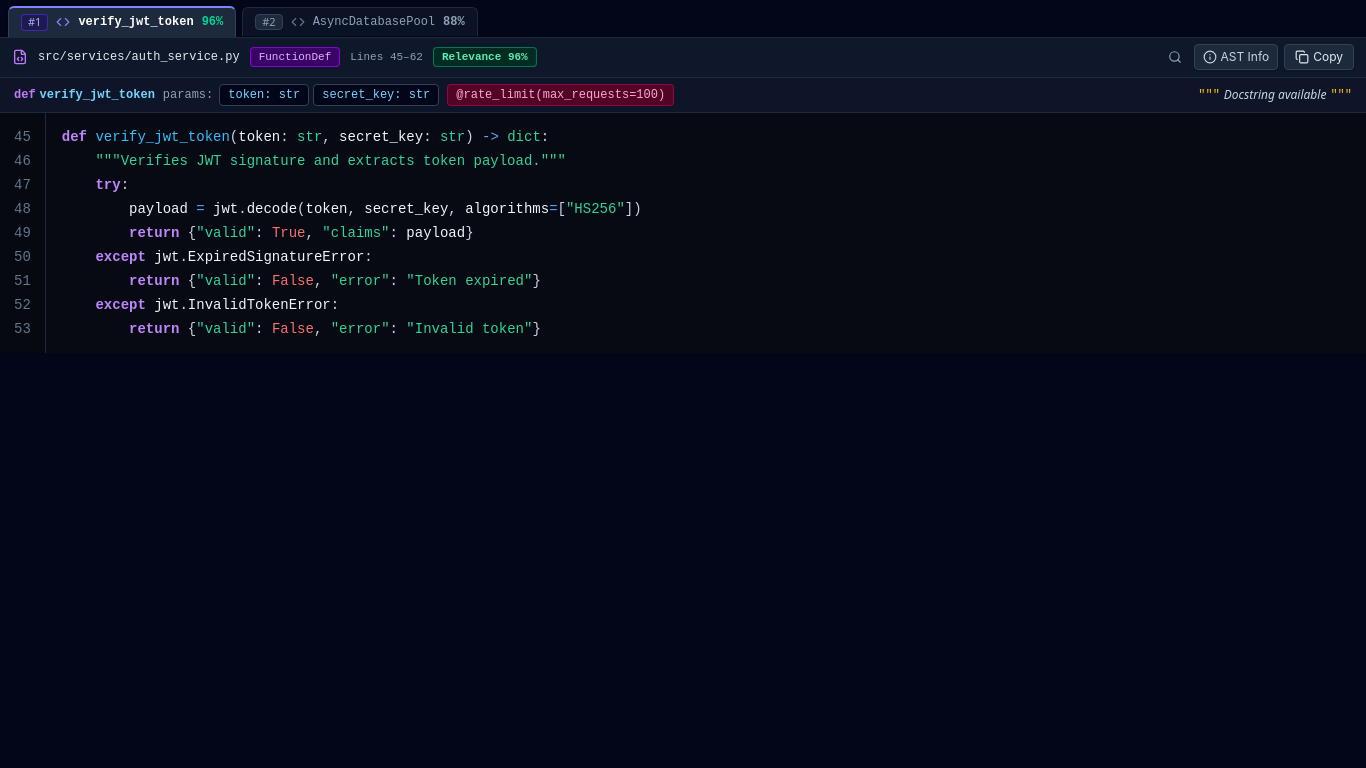
Test: Adversarial Challenge 2: Python Highlighting, Line Numbers & DOM Accessibility › 4. Tab Switching & AST State Consistency › synchronizes AST Metadata Inspector with the selected tab when opened
The width and height of the screenshot is (1366, 768).
# Open AST metadata inspector
Click the button with test id "toggle-ast-inspector-btn".
click(1236, 57)  # box [1194,44,1278,70]
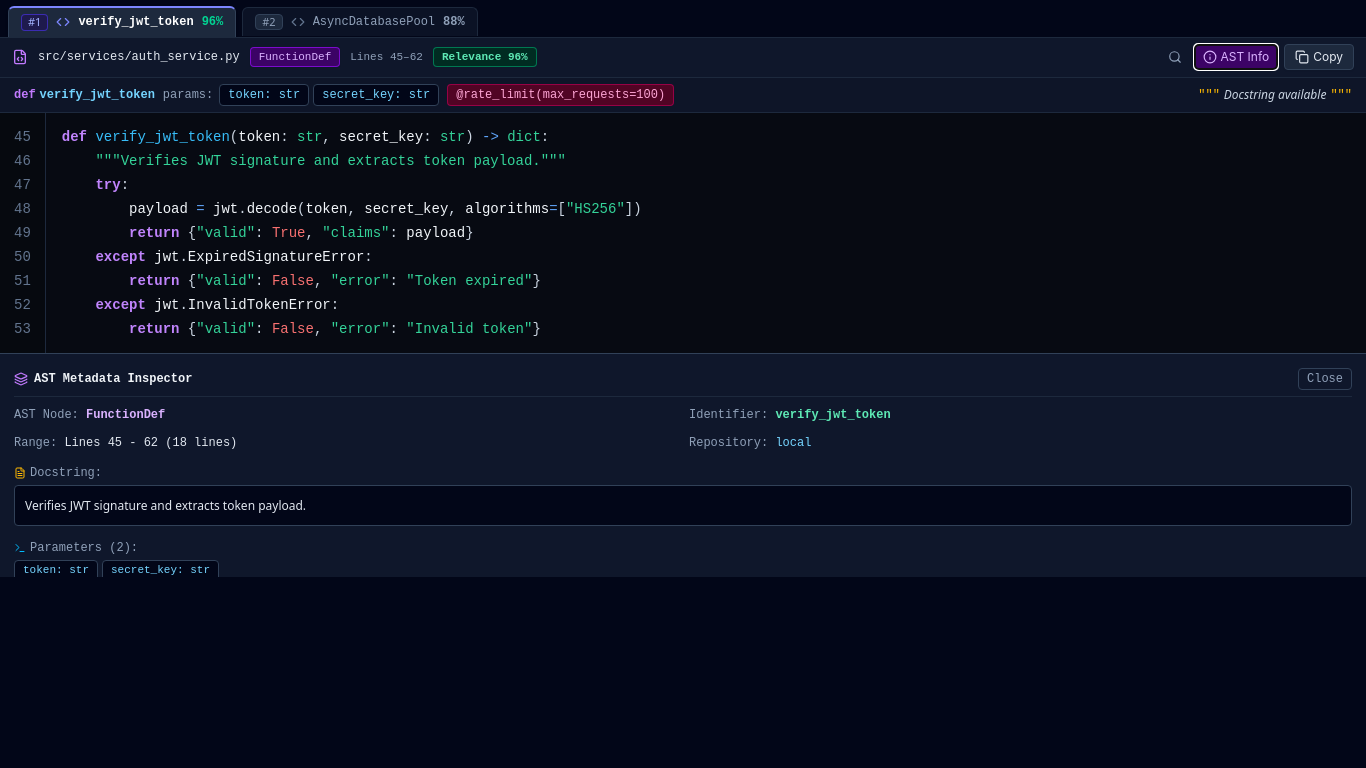
Check: the element with test id "ast-metadata-inspector" is shown, box [0,353,1365,577]
Check: the element with test id "ast-metadata-inspector" shows "verify_jwt_token", box [775,408,891,422]
Check: the element with test id "ast-metadata-inspector" shows "token: str", box [23,564,89,576]
# Switch to Chunk 2 with inspector open
Click the button "#2 AsyncDatabasePool 88%".
click(360, 21)  # box [242,6,478,36]
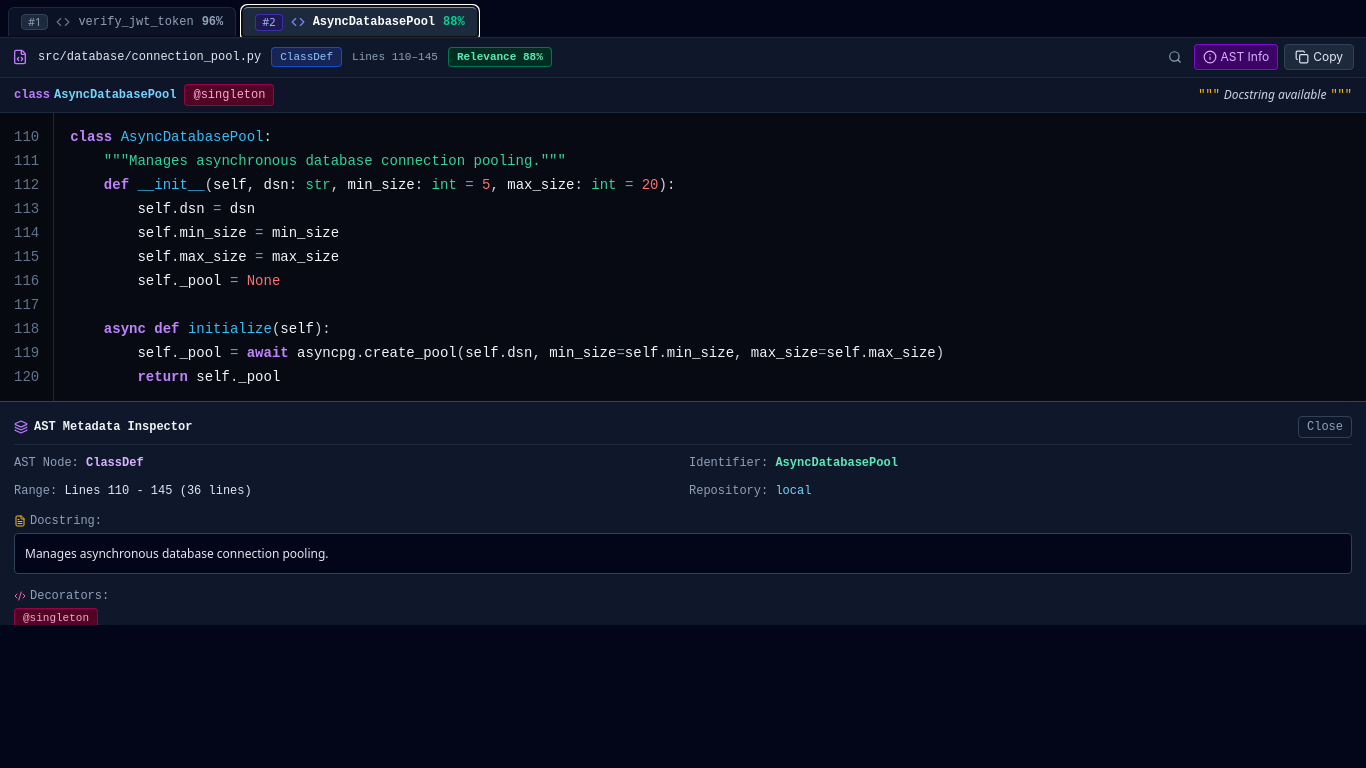
Check: the element with test id "ast-metadata-inspector" shows "AsyncDatabasePool", box [775,456,898,470]
Check: the element with test id "ast-metadata-inspector" shows "@singleton", box [23,612,89,624]
Check: the element with test id "ast-metadata-inspector" no longer shows "verify_jwt_token"
